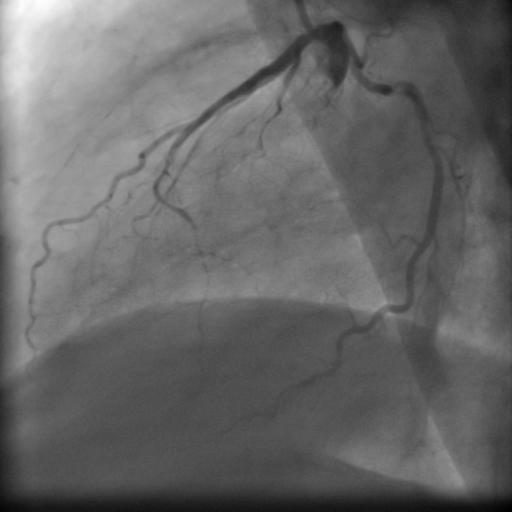Stenosis: (384, 78, 411, 98)
